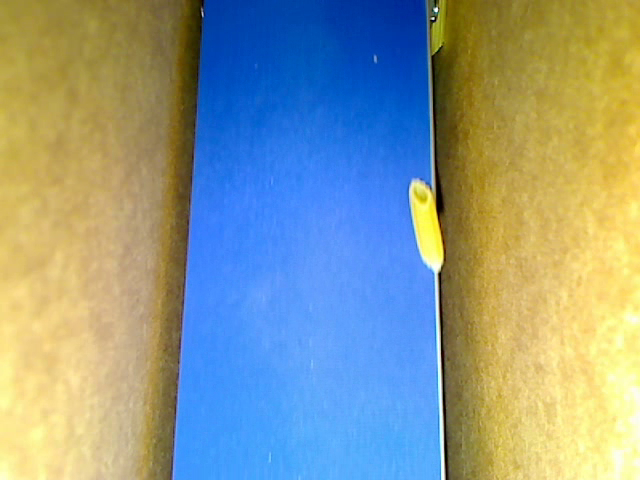penne: (404, 176, 444, 277), (426, 1, 446, 67)
